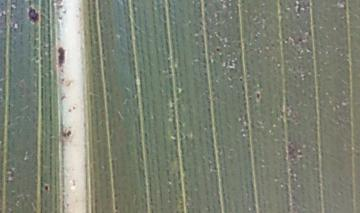tarspot: (55, 42, 68, 70), (25, 4, 42, 24), (252, 87, 263, 102), (211, 44, 223, 56), (41, 180, 51, 193)
